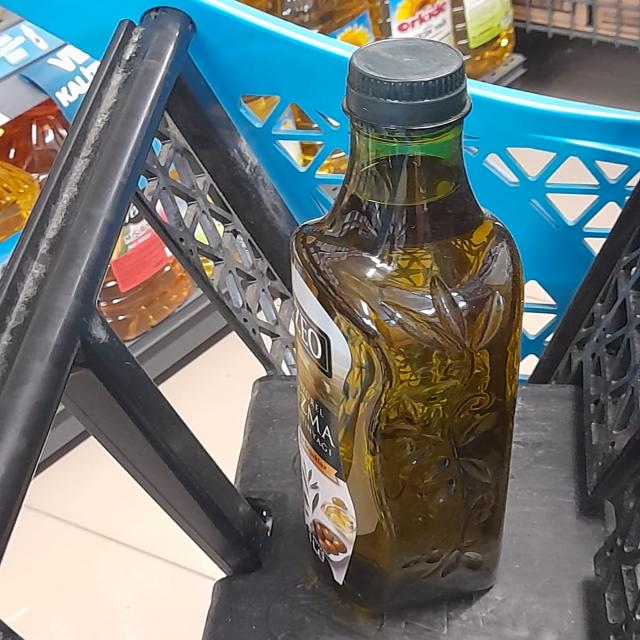olive oil: (265, 190, 544, 608)
